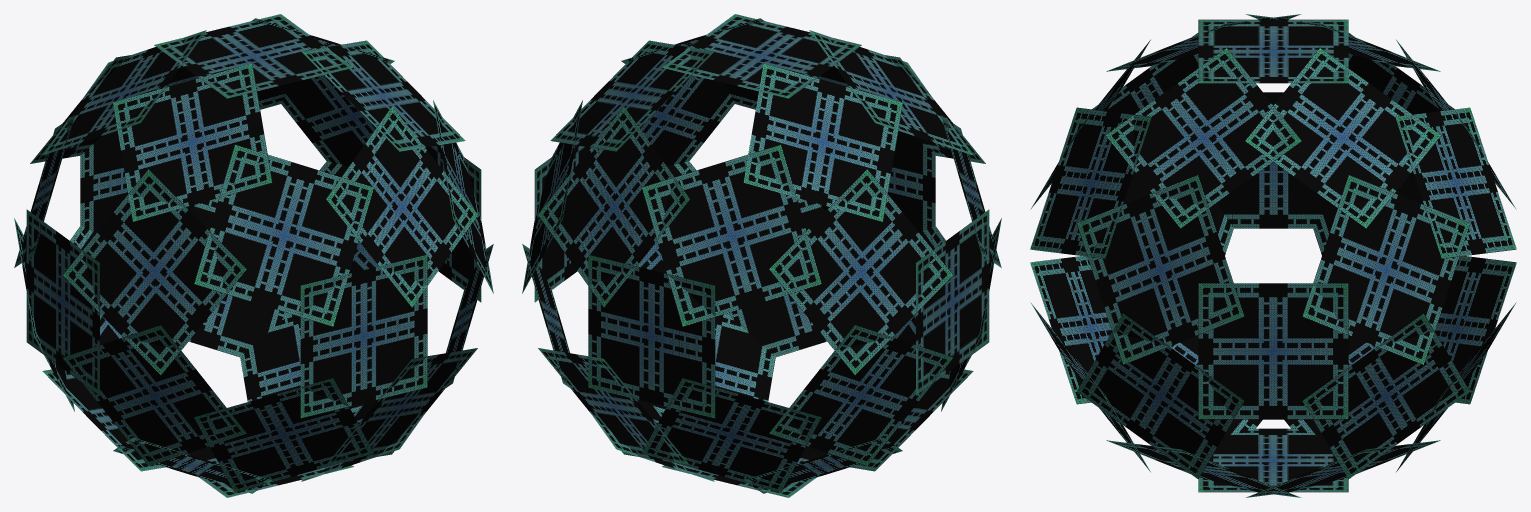
Rendered from 22TruncatedDodecadodecahedron.gltf.
The picture shows the model from 3 angles, left to right: view 1: azimuth 30°, elevation 25°; view 2: azimuth 150°, elevation 25°; view 3: azimuth 270°, elevation 25°; orthographic projection. The views are drawn at different scales.
Parts seen in each view (by area): view 1: 1TruncatedDodecadodecahedron; view 2: 1TruncatedDodecadodecahedron; view 3: 1TruncatedDodecadodecahedron.
Boxes of the visible parts, x1,y1,x2,y2 form: 1TruncatedDodecadodecahedron: [14, 14, 493, 497]; 1TruncatedDodecadodecahedron: [522, 14, 1001, 497]; 1TruncatedDodecadodecahedron: [1030, 14, 1516, 497].
Bounding box in the file's own units: 3.24 × 3.24 × 3.24.
Materials: 1 (1 with a texture image).
